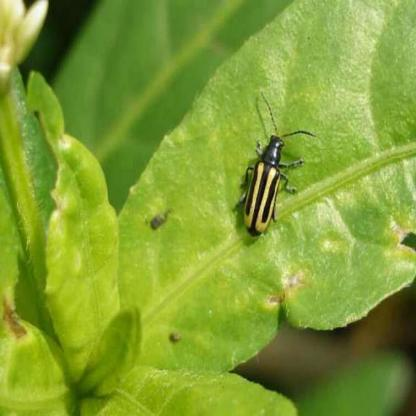beetle: (232, 92, 298, 237)
